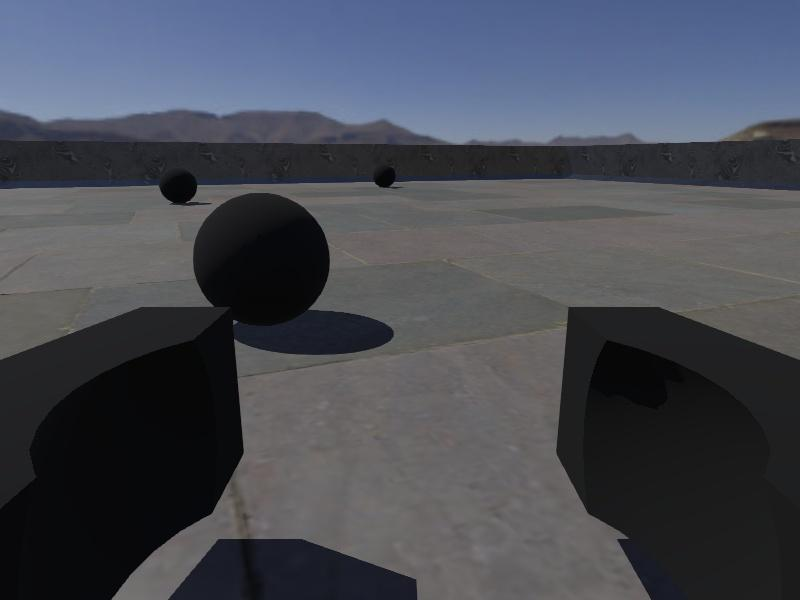black ball: (192, 191, 332, 328), (159, 166, 198, 205), (372, 163, 397, 187)
